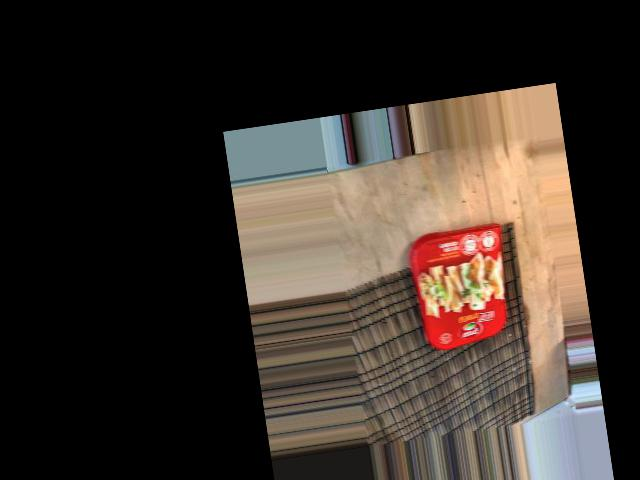cheese: (341, 265, 480, 373)
